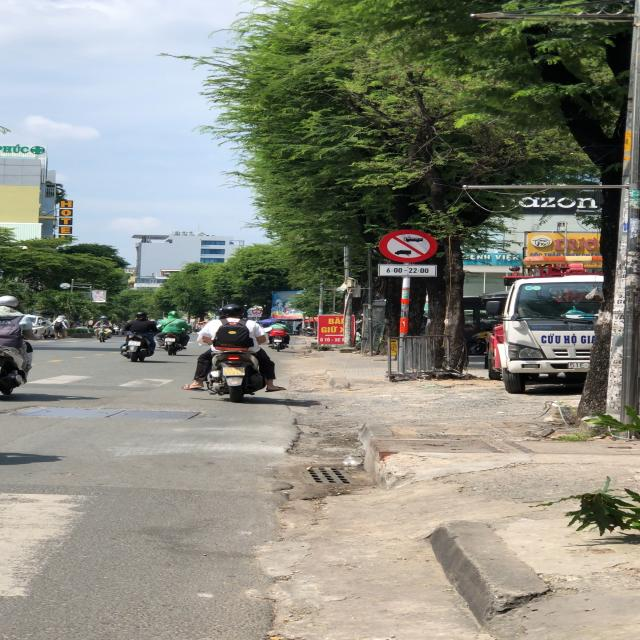Bien bao cam xe oto khach va xe oto tai: (376, 227, 441, 264)
